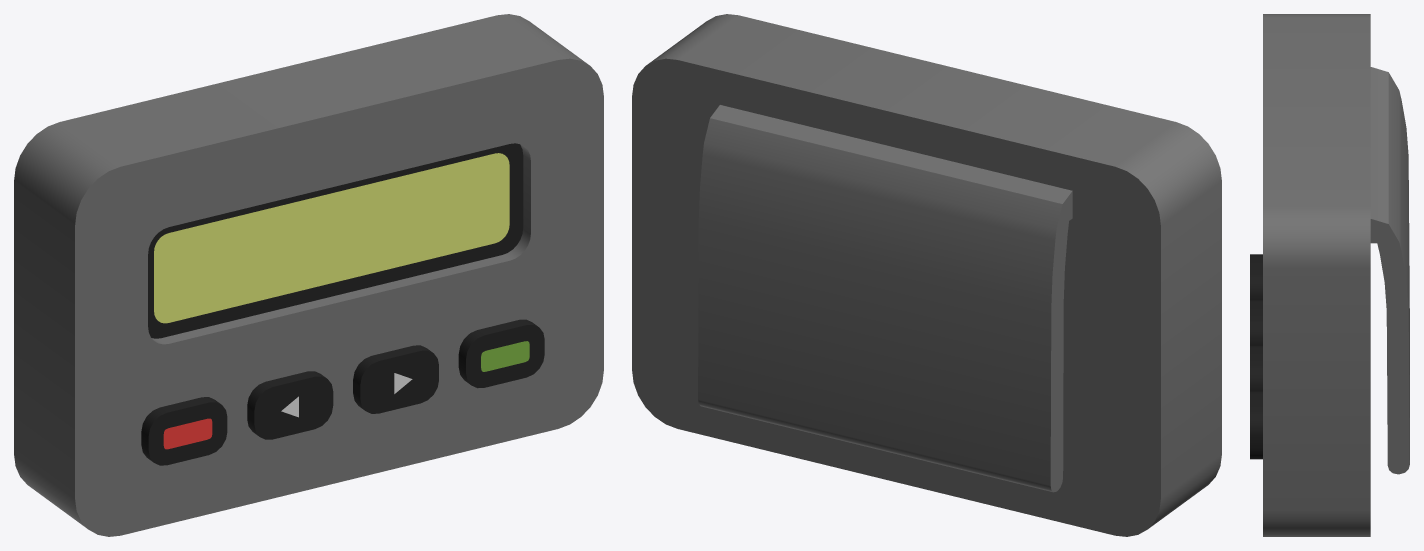
File: pager.glb
The picture shows the model from 3 angles, left to right: view 1: azimuth 30°, elevation 25°; view 2: azimuth 150°, elevation 25°; view 3: azimuth 270°, elevation 25°; orthographic projection. The views are drawn at different scales.
Visible parts, largest first — view 1: Cube.923; view 2: Cube.923; view 3: Cube.923.
Part boxes in pixels (<box>): Cube.923: <box>14,14,603,536</box>; Cube.923: <box>632,14,1221,536</box>; Cube.923: <box>1250,14,1409,536</box>.
Size of the model in its own units: 2.16 by 1.44 by 0.6395.
1 material, 1 textured.
